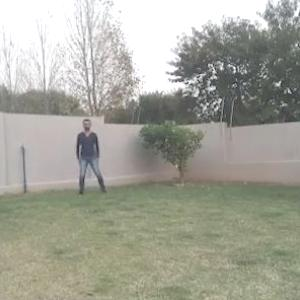follow: (77, 118, 95, 189)
